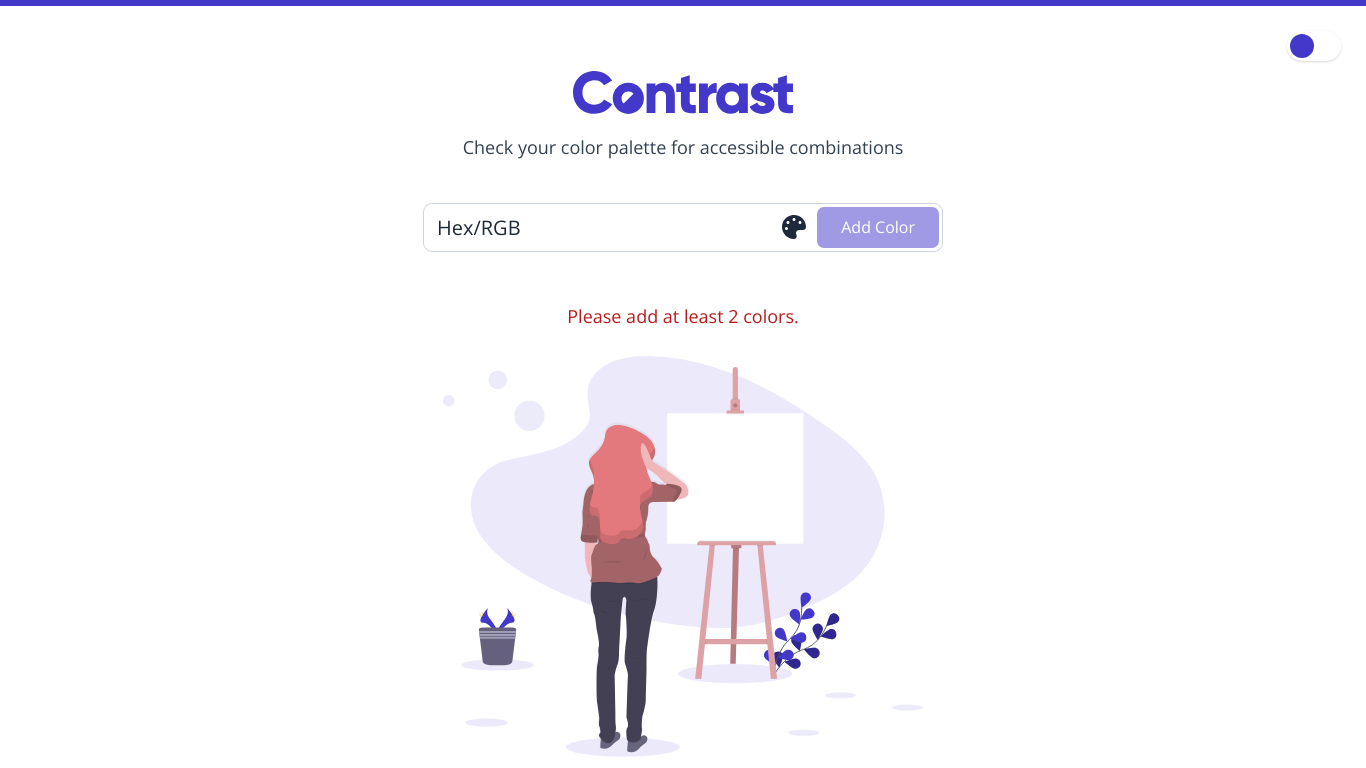
Test: lets you add new colors
The width and height of the screenshot is (1366, 768).
Type "#ff0000" into the field with test id "add-color-input".
click(599, 228); type("#ff0000")  # box [427,207,771,248]
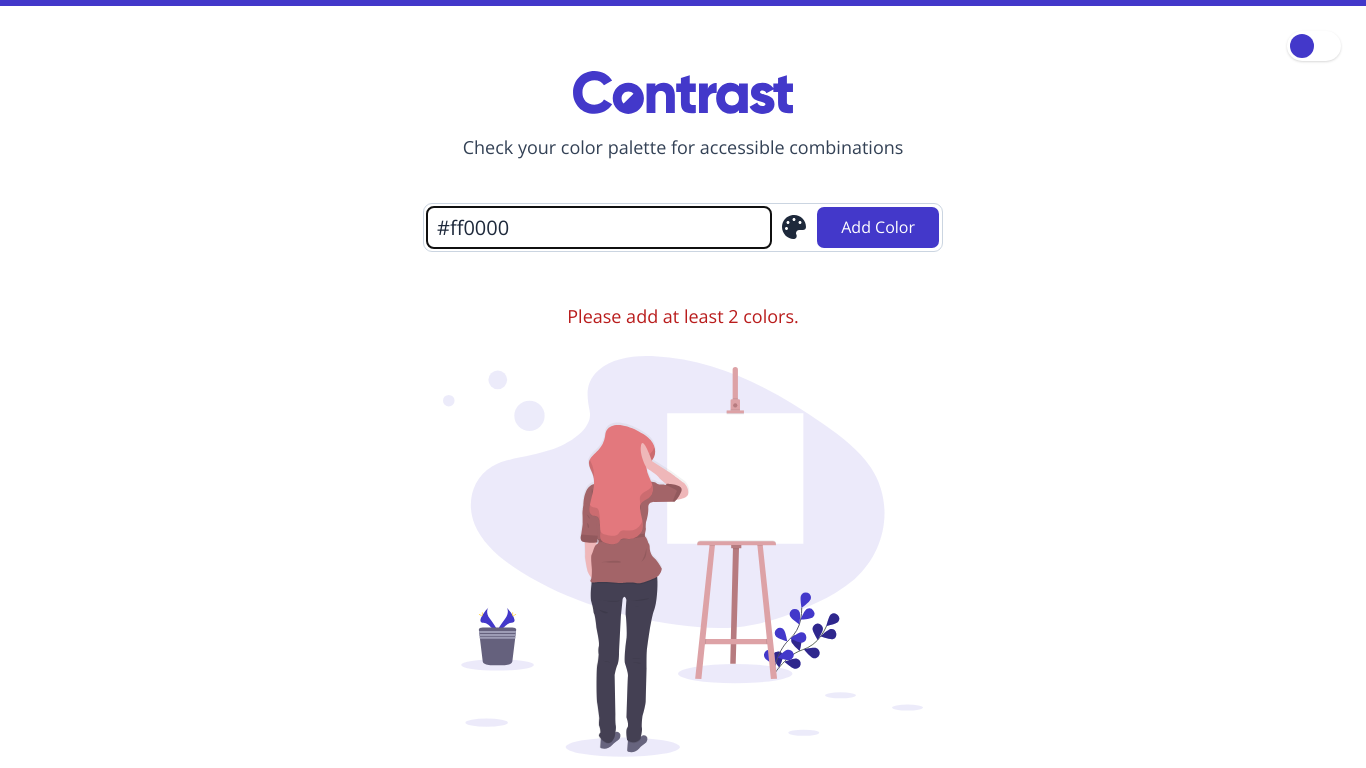
Click the button with test id "add-color-button".
click(878, 228)  # box [817,207,939,248]
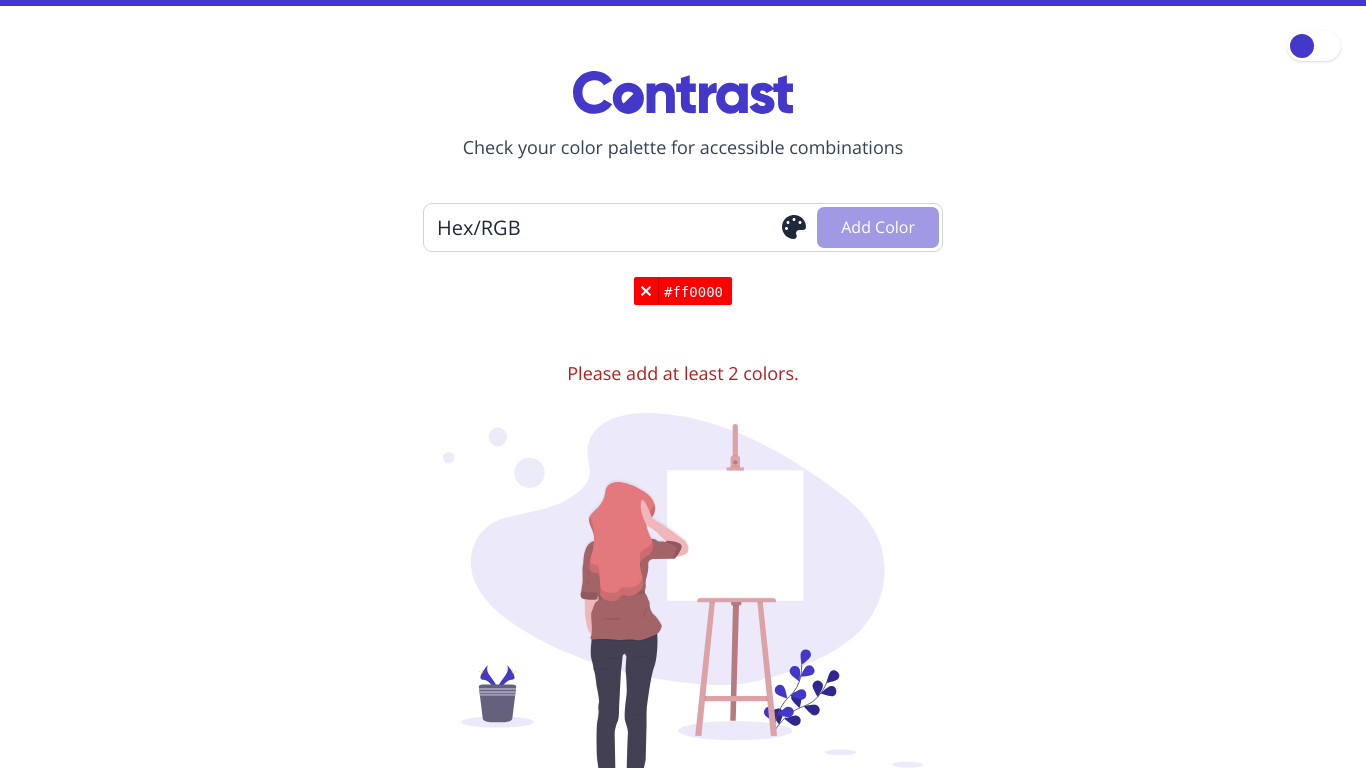
Result: the number of list items is 1 at [634,277,732,305]
